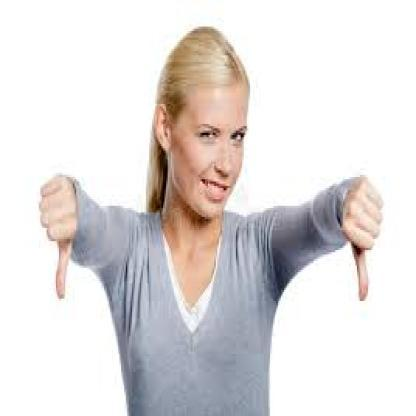thumb_down: (32, 167, 84, 302), (336, 167, 384, 302)
